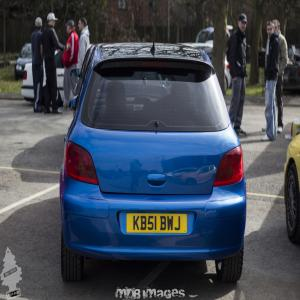Vehicle-registration-plate: (128, 215, 188, 234)
